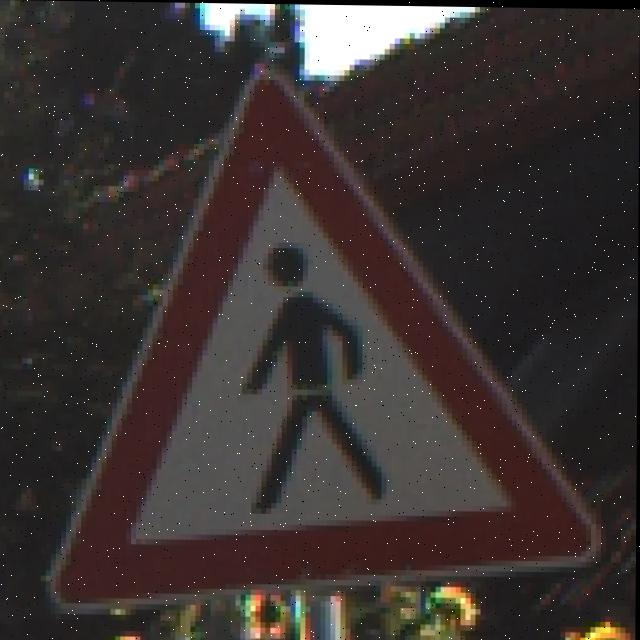crosswalk: (62, 90, 593, 580)
